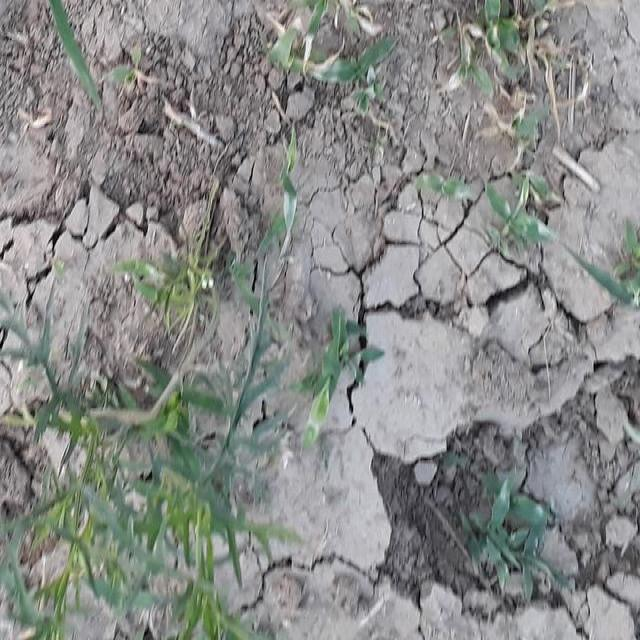weed: (0, 237, 321, 640)
